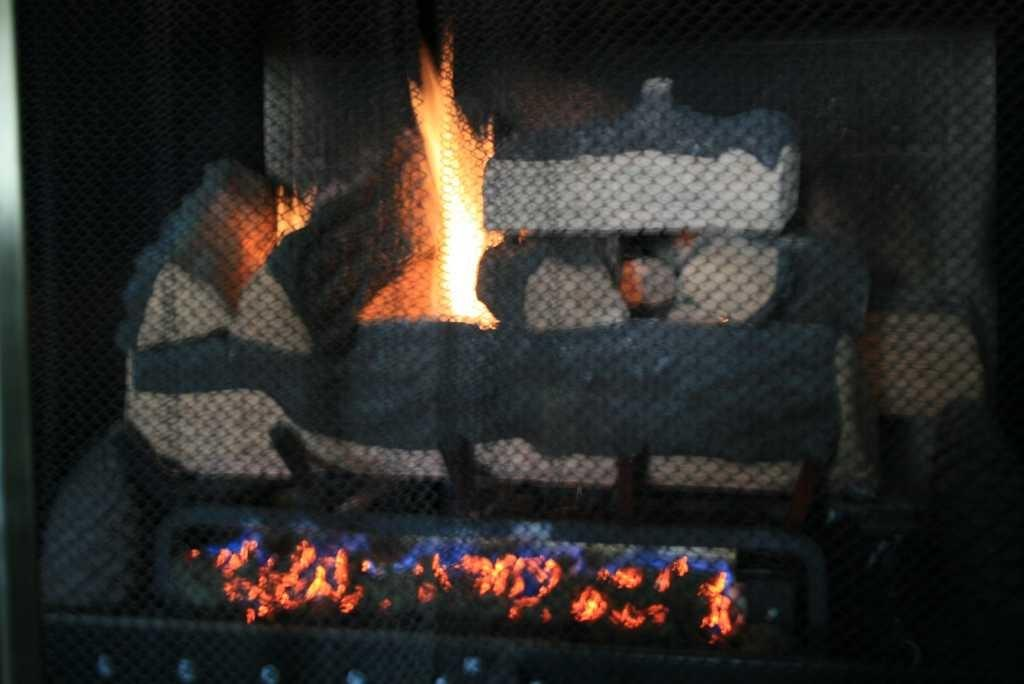fire: (183, 523, 754, 637), (388, 58, 514, 323)
